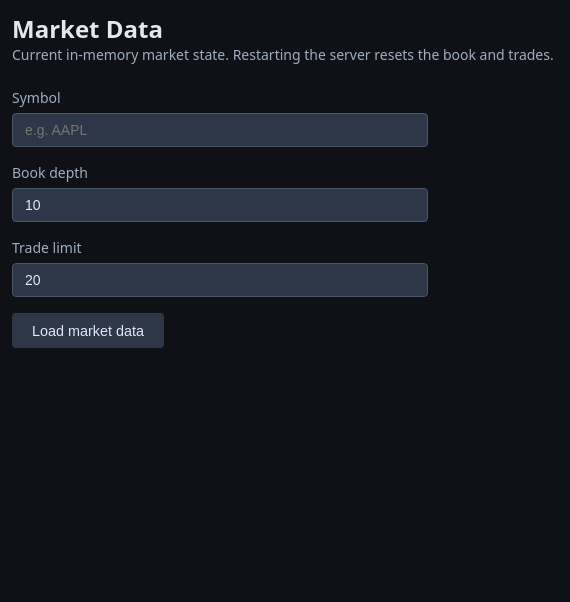
Test: MarketView – empty states › shows no-bids, no-asks and no-trades messages for an empty book
Type "AAPL" into the field labelled "Symbol".
click(220, 130); type("AAPL")  # box [12,113,428,147]
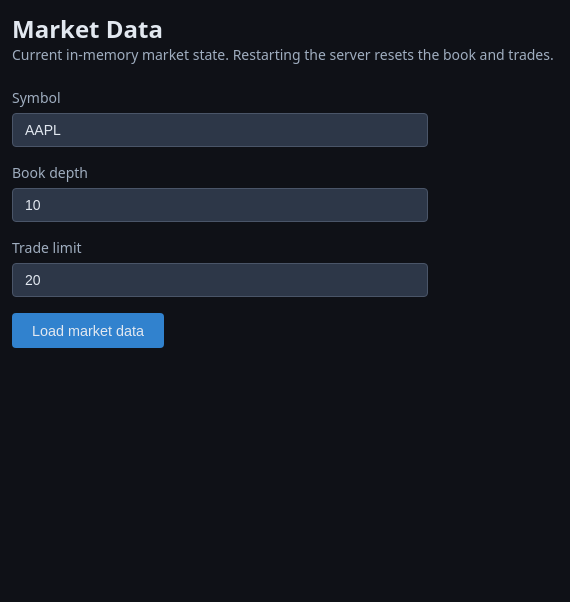
Click the button.
click(88, 331)  # box [12,313,164,348]
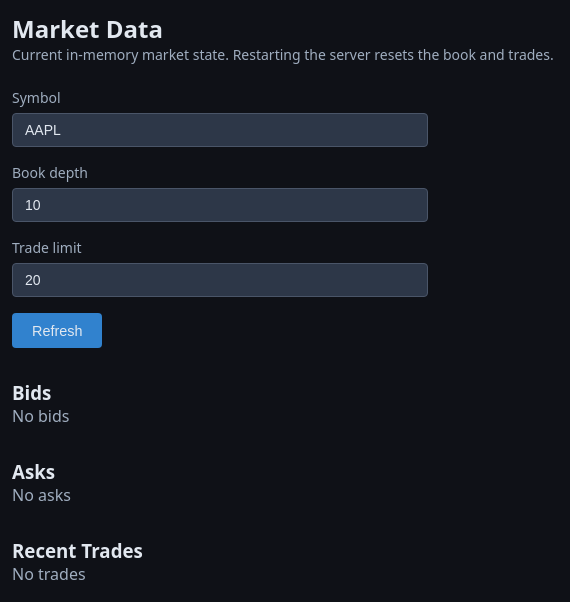
Expected: the text "No bids" is shown, [12,405,70,427]
Expected: the text "No asks" is shown, [12,484,71,506]
Expected: the text "No trades" is shown, [12,563,86,585]
